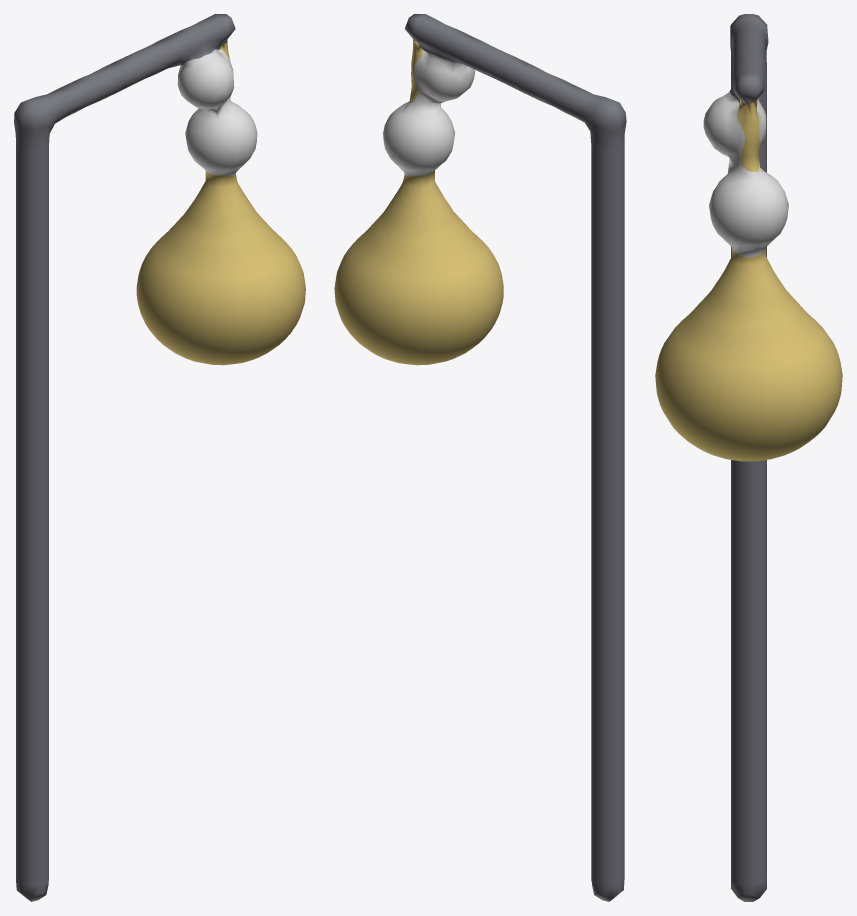
File: censer.glb
The picture shows the model from 3 angles, left to right: view 1: azimuth 30°, elevation 25°; view 2: azimuth 150°, elevation 25°; view 3: azimuth 270°, elevation 25°; orthographic projection. The views are drawn at different scales.
Parts seen in each view (by area): view 1: censer; view 2: censer; view 3: censer.
Boxes of the visible parts, x1,y1,x2,y2 form: censer: (14, 14, 305, 901); censer: (334, 14, 626, 901); censer: (655, 14, 842, 901).
Bounding box in the file's own units: 26.36 × 76.31 × 13.99.
